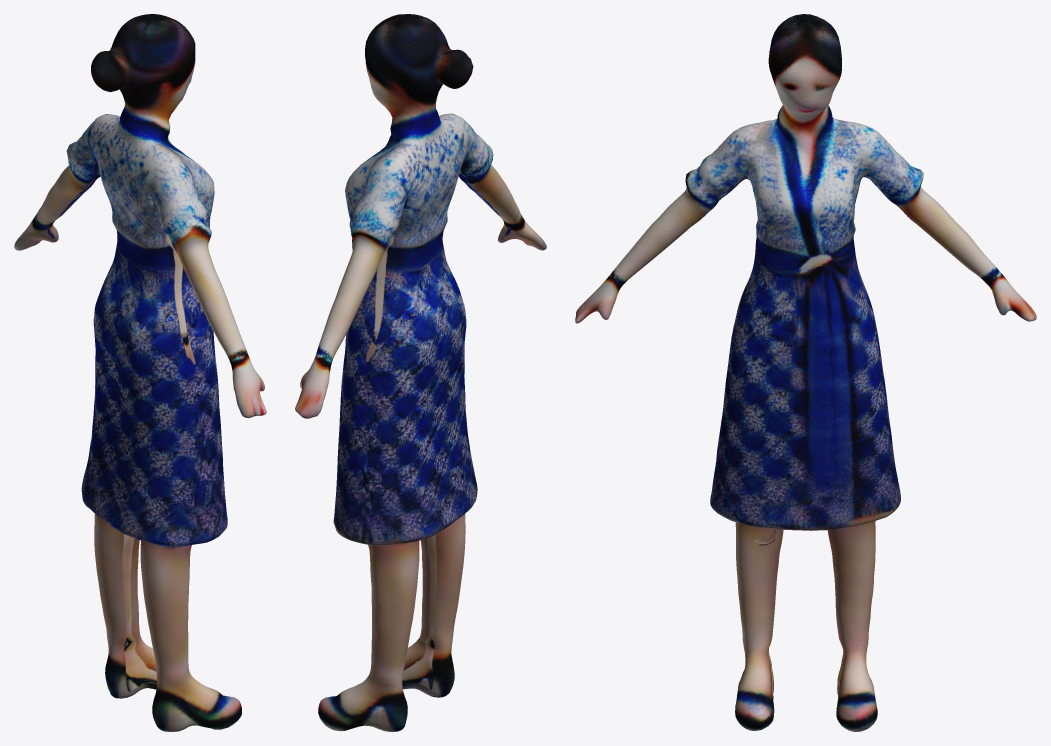
The model's file is 63263408fb53_Da_Nang_Women_s_NPC.obj.
The picture shows the model from 3 angles, left to right: view 1: azimuth 30°, elevation 25°; view 2: azimuth 150°, elevation 25°; view 3: azimuth 270°, elevation 25°; orthographic projection.
Visible parts, largest first — view 1: mesh; view 2: mesh; view 3: mesh.
Boxes of the visible parts, x1,y1,x2,y2 form: mesh: [14, 14, 266, 731]; mesh: [295, 14, 546, 731]; mesh: [575, 14, 1036, 731].
Size of the model in its own units: 0.1809 by 0.9991 by 0.6051.
Materials: 1 (1 with a texture image).
